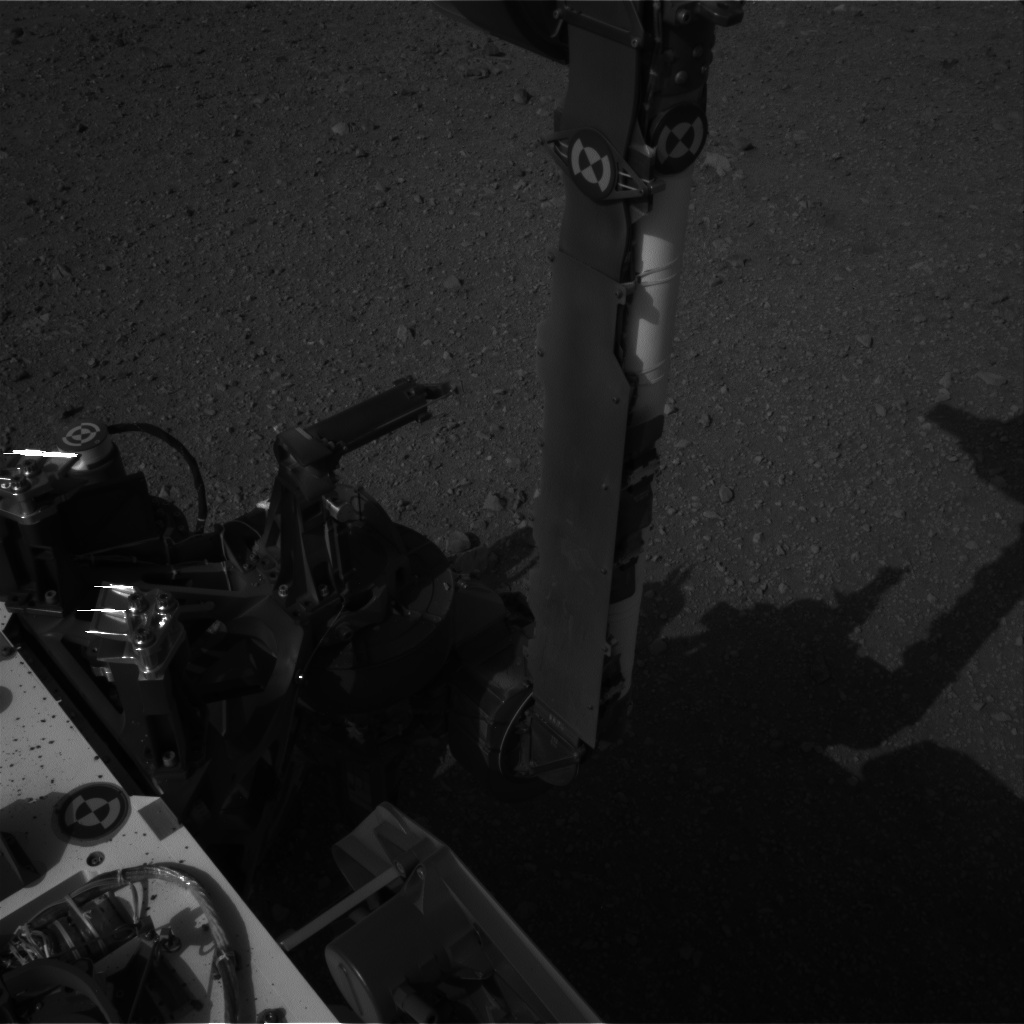soil: (517, 8, 1015, 1011), (9, 7, 506, 552)
